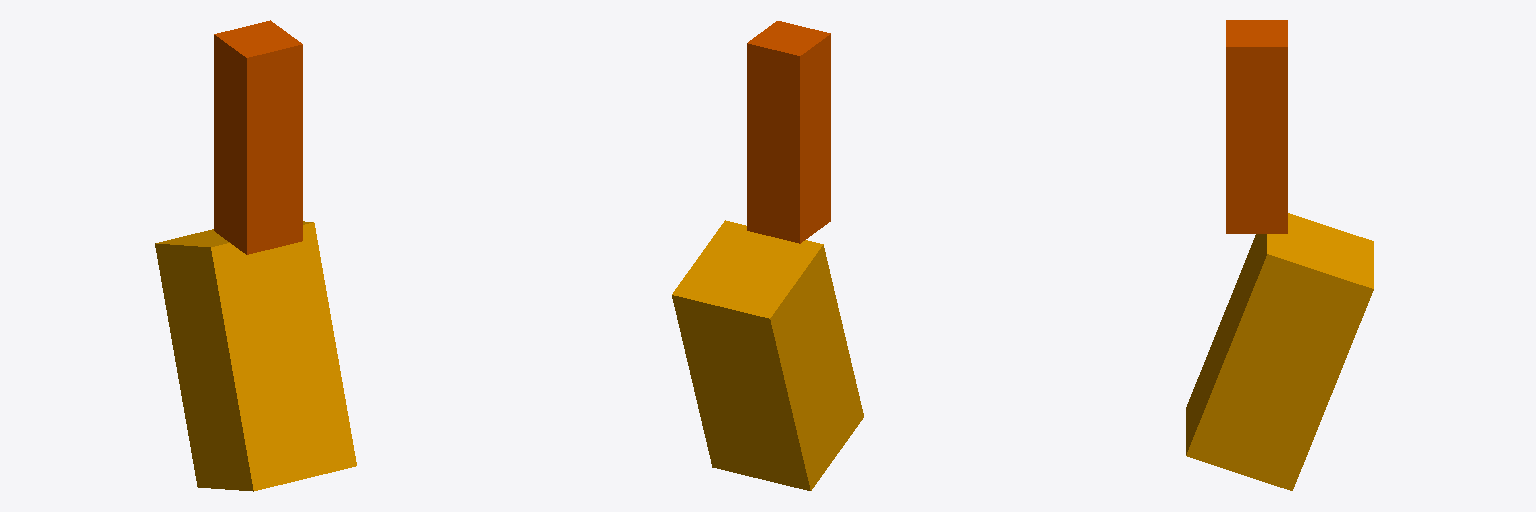
robot.urdf — inmoov:
<?xml version="1.0" ?>
<!-- =================================================================================== -->
<!-- |    This document was autogenerated by xacro from inmoov_shadow_hand_v2.urdf.xacro | -->
<!-- |    EDITING THIS FILE BY HAND IS NOT RECOMMENDED                                 | -->
<!-- =================================================================================== -->
<robot name="inmoov">
  <!--xacro:property name="pi" value="3.1415926539"/-->
  <!-- meshlab steps taken from http://gazebosim.org/tutorials?tut=inertia -->
  <!-- assume material density is 1.0g per 1.0cm^2 -->
  <!-- ABS is 1.04g per 1.0cm^3 -->
  <!-- PLA is 1.25g per 1.0cm^3 -->
  <!-- <xacro:include filename="$(find inmoov_description)/urdf/inmoov.gazebo" /> -->
  <!-- usage: e.g. ${M_PI/4} -->
  <material name="Blue">
    <color rgba="0.0 0.0 0.8 1.0"/>
  </material>
  <material name="Green">
    <color rgba="0.0 0.8 0.0 1.0"/>
  </material>
  <material name="BiotacGreen">
    <color rgba="0.31 0.85 0.42 1.0"/>
  </material>
  <material name="Grey">
    <color rgba="0.2 0.2 0.2 1.0"/>
  </material>
  <material name="LightGrey">
    <color rgba="0.6 0.6 0.6 1.0"/>
  </material>
  <material name="Red">
    <color rgba="0.8 0.0 0.0 1.0"/>
  </material>
  <material name="White">
    <color rgba="1.0 1.0 1.0 1.0"/>
  </material>

  <link name="r_shoulder_link">
    <visual>
      <geometry>
        <mesh filename="package://inmoov_meshes/meshes/r_shoulder.stl" scale="0.001 0.001 0.001"/>
      </geometry>
      <origin rpy="0 0 0" xyz="0 0 0"/>
      <material name="cframe">
        <color rgba="0.40 0.40 0.40 1"/>
      </material>
    </visual>
    <inertial>
      <mass value="322.44334375"/>
      <inertia ixx="0.60134592" ixy="0.00343772975" ixz="-0.011761917" iyy="0.473865856" iyz="-0.114277" izz="0.500951584"/>
    </inertial>
  </link>
  <link name="r_bicep_link_aux_0">
    <inertial>
      <origin rpy="0 0 0" xyz="0 0 0"/>
      <mass value="1"/>
      <inertia ixx="0.01" ixy="0" ixz="0" iyy="0.01" iyz="0" izz="0.01"/>
    </inertial>
  </link>
  <link name="r_bicep_link_aux_1">
    <inertial>
      <origin rpy="0 0 0" xyz="0 0 0"/>
      <mass value="1"/>
      <inertia ixx="0.01" ixy="0" ixz="0" iyy="0.01" iyz="0" izz="0.01"/>
    </inertial>
  </link>
  <link name="r_bicep_link">
    <visual>
      <geometry>
        <mesh filename="package://inmoov_meshes/meshes/bicep.stl" scale="0.001 0.001 0.001"/>
      </geometry>
      <origin rpy="0 0 0" xyz="0 0 0"/>
      <material name="cframe">
        <color rgba="0.40 0.40 0.40 1"/>
      </material>
    </visual>
    <inertial>
      <mass value="281.91265625"/>
      <inertia ixx="1.283355392" ixy="-0.000200782203125" ixz="-0.224559104" iyy="1.399255168" iyz="0.0006545236875" izz="0.416621216"/>
    </inertial>
  </link>
  <link name="r_forearm_link_aux">
    <inertial>
      <origin rpy="0 0 0" xyz="0 0 0"/>
      <mass value="1"/>
      <inertia ixx="0.01" ixy="0" ixz="0" iyy="0.01" iyz="0" izz="0.01"/>
    </inertial>
  </link>
  <link name="r_forearm_link">
<!--    openrave cannot visualize primitive shape e.g. box-->
    <visual>
      <geometry>
        <mesh filename="package://inmoov_meshes/meshes/box-binary.stl" scale="0.06 0.06 0.2"/>
      </geometry>
      <origin rpy="0 0 0" xyz="0.03 -0.00 -0.18"/>
    </visual>
    <collision>
      <geometry>
        <box size="0.06 0.06 0.2"/>
      </geometry>
      <origin rpy="0 0 0" xyz="0.03 -0.00 -0.18"/>
    </collision>
    <inertial>
      <mass value="401.76659375"/>
      <inertia ixx="3.242307584" ixy="0.050011216" ixz="-0.14318512" iyy="3.24251008" iyz="0.086288976" izz="0.58458784"/>
    </inertial>
  </link>

  <joint name="r_shoulder_out_joint" type="revolute">
    <axis xyz="1 0 0"/>
    <limit effort="1000.0" lower="-2.07079632679" upper="1.57079632679" velocity="2000"/>
    <origin rpy="0 0 0" xyz="0 -0.066 -0.06"/>
    <parent link="r_shoulder_link"/>
    <child link="r_bicep_link_aux_0"/>
  </joint>
  <joint name="r_shoulder_lift_joint" type="revolute">
    <axis xyz="0 1 0"/>
    <limit effort="1000.0" lower="-2.07079632679" upper="1.57079632679" velocity="2000"/>
    <origin rpy="0 0 0" xyz="0 0 0"/>
    <parent link="r_bicep_link_aux_0"/>
    <child link="r_bicep_link_aux_1"/>
  </joint>
  <joint name="r_upper_arm_roll_joint" type="revolute">
    <axis xyz="0 0 1"/>
    <limit effort="1000.0" lower="-1.57079632679" upper="1.57079632679" velocity="2000"/>
    <origin rpy="0 0 0" xyz="0 0 0"/>
    <parent link="r_bicep_link_aux_1"/>
    <child link="r_bicep_link"/>
  </joint>
  <joint name="r_elbow_flex_joint" type="revolute">
    <axis xyz="0 1 0"/>
    <limit effort="1000.0" lower="-3.14159265359" upper="0.0" velocity="2000"/>
    <origin rpy="0 0 0" xyz="-0.054 -0.009 -0.2621"/>
    <parent link="r_bicep_link"/>
    <child link="r_forearm_link_aux"/>
  </joint>
  <joint name="r_elbow_roll_joint" type="revolute">
    <axis xyz="0 0 1"/>
    <limit effort="1000.0" lower="-1.57079632679" upper="1.57079632679" velocity="2000"/>
    <origin rpy="0 0 0" xyz="0.0 0 0.0"/>
    <parent link="r_forearm_link_aux"/>
    <child link="r_forearm_link"/>
  </joint>

  <!-- shadow hand -->
  <link name="r_hand_link">
    <inertial>
      <origin rpy="0 0 0" xyz="0 0 0"/>
      <mass value="1"/>
      <inertia ixx="0.01" ixy="0" ixz="0" iyy="0.01" iyz="0" izz="0.01"/>
    </inertial>
  </link>
  <joint name="r_wrist_roll_joint" type="fixed">
    <parent link="r_forearm_link"/>
    <child link="r_hand_link"/>
    <origin rpy="3.14159265359 0 0" xyz="0.0303 -0.00729 -0.302"/>
  </joint>
  <link name="rh_wrist">
  <!--match mass to arm-->
    <inertial>
      <origin rpy="0 0 0" xyz="0 0 0.029"/>
      <mass value="100"/>
      <inertia ixx="0.035" ixy="0.0" ixz="0.0" iyy="0.064" iyz="0.0" izz="0.0438"/>
    </inertial>
    <visual>
      <origin rpy="0 0 0" xyz="0 0 0"/>
      <geometry name="rh_wrist_visual">
        <mesh filename="package://sr_description/hand/model/wrist.dae" scale="0.001 0.001 0.001"/>
      </geometry>
      <material name="LightGrey"/>
    </visual>
<!--    <collision>-->
<!--      <origin rpy="1.5708 1.5708 0" xyz="0 0 0"/>-->
<!--      <geometry name="rh_wrist_collision_geom">-->
<!--        <cylinder length="0.030" radius="0.0135"/>-->
<!--      </geometry>-->
<!--    </collision>-->
<!--    <collision>-->
<!--      <origin rpy="0 1.5708 0" xyz="-0.026 0 0.034"/>-->
<!--      <geometry>-->
<!--        <cylinder length="0.010" radius="0.011"/>-->
<!--      </geometry>-->
<!--    </collision>-->
<!--    <collision>-->
<!--      <origin rpy="0 1.5708 0" xyz="0.031 0 0.034"/>-->
<!--      <geometry>-->
<!--        <cylinder length="0.010" radius="0.011"/>-->
<!--      </geometry>-->
<!--    </collision>-->
<!--    <collision>-->
<!--      <origin rpy="0 0.7854 0" xyz="-0.021 0 0.011"/>-->
<!--      <geometry>-->
<!--        <box size="0.027 0.018 0.010"/>-->
<!--      </geometry>-->
<!--    </collision>-->
<!--    <collision>-->
<!--      <origin rpy="0 -0.7854 0" xyz="0.026 0 0.010"/>-->
<!--      <geometry>-->
<!--        <box size="0.027 0.018 0.010"/>-->
<!--      </geometry>-->
<!--    </collision>-->
  </link>
  <gazebo reference="rh_wrist">
    <material>Gazebo/White</material>
    <selfCollide>false</selfCollide>
  </gazebo>
  <joint name="rh_WRJ2" type="revolute">
    <parent link="r_hand_link"/>
    <child link="rh_wrist"/>
    <origin rpy="0 0 0" xyz="0 0.0 0.0"/>
    <!-- this is the wrist adduction -->
    <axis xyz="0 1.0 0"/>
    <limit effort="10" lower="-1.0471975512" upper="1.0471975512" velocity="20"/>
    <dynamics damping="0.1"/>
  </joint>
  <gazebo reference="rh_WRJ2">
    <provideFeedback>1</provideFeedback>
    <implicitSpringDamper>1</implicitSpringDamper>
  </gazebo>
  <transmission name="rh_wrist_transmission">
    <type>sr_mechanism_model/SimpleTransmission</type>
    <actuator name="rh_WRJ2">
      <mechanicalReduction>1</mechanicalReduction>
    </actuator>
    <joint name="rh_WRJ2">
      <hardwareInterface>EffortJointInterface</hardwareInterface>
      <hardwareInterface>PositionJointInterface</hardwareInterface>
    </joint>
  </transmission>

  <link name="rh_palm">
    <inertial>
      <origin rpy="0 0 0" xyz="0 0 0.035"/>
      <mass value="0.3"/>
      <inertia ixx="0.0003581" ixy="0.0" ixz="0.0" iyy="0.0005287" iyz="0.0" izz="0.000191"/>
    </inertial>
    <!--    openrave cannot visualize primitive shape e.g. box-->
    <visual>
      <geometry>
        <mesh filename="package://inmoov_meshes/meshes/box-binary.stl" scale="0.11 0.11 0.23"/>
      </geometry>
      <origin rpy="-0.35 0 0" xyz="0.01 -0.03 0.08"/>
    </visual>
    <collision>
      <origin rpy="-0.35 0 0" xyz="0.01 -0.03 0.08"/>
      <geometry>
        <box size="0.11 0.11 0.23"/>
      </geometry>
    </collision>
  </link>
  <joint name="rh_WRJ1" type="revolute">
    <parent link="rh_wrist"/>
    <child link="rh_palm"/>
    <origin rpy="0 0 0" xyz="0 0 0.03"/>
    <axis xyz="1 0 0"/>
    <!-- this is the wrist flexion -->
    <limit effort="30" lower="-1.57079632679" upper="1.57079632679" velocity="20"/>
    <dynamics damping="0.1"/>
  </joint>
</robot>

--- What the picture shows (computed from the rendered views, not written in the file) ---
Views: 3 orthographic renders of the robot side by side, from view 1: azimuth 30°, elevation 25°; view 2: azimuth 150°, elevation 25°; view 3: azimuth 270°, elevation 25°.
Robot: inmoov — 9 links, 8 joints (7 revolute, 1 fixed); root link r_shoulder_link; default pose: every joint at zero.
Links seen in each view (by area): view 1: rh_palm, r_forearm_link; view 2: rh_palm, r_forearm_link; view 3: rh_palm, r_forearm_link.
Boxes of the visible links, box(x1,y1,x2,y2) form: rh_palm: box(155, 221, 356, 491); r_forearm_link: box(214, 20, 302, 254); rh_palm: box(672, 220, 863, 490); r_forearm_link: box(747, 21, 830, 243); rh_palm: box(1186, 213, 1373, 490); r_forearm_link: box(1226, 20, 1287, 233).
Size in the robot's own frame: 0.11 by 0.1822 by 0.4589 metres.
Meshes: 4 distinct files referenced, 2 mesh visuals loaded (1 binary STL); not drawn: 3 (reference not matched to a file when rendering).